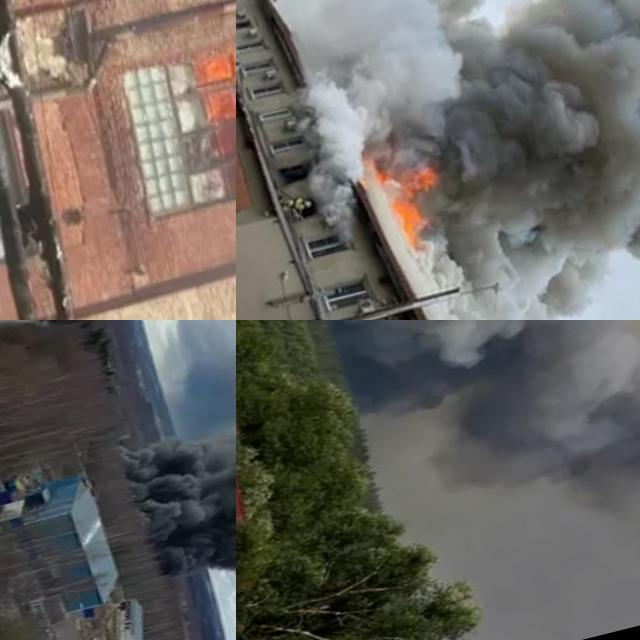smoke: (330, 0, 640, 320), (317, 320, 640, 553), (90, 320, 236, 640)
